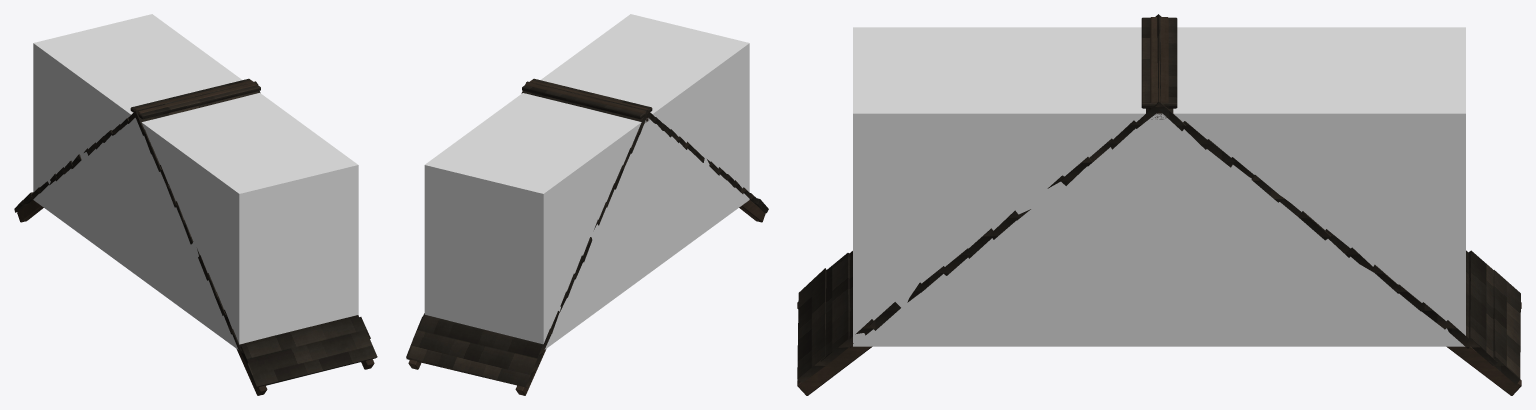
The model's file is ak_roof_shingle_span6_2m.glb.
3 views of the same model, side by side, from view 1: azimuth 30°, elevation 25°; view 2: azimuth 150°, elevation 25°; view 3: azimuth 270°, elevation 25° (orthographic). The views are drawn at different scales.
Visible parts, largest first — view 1: col_roof, roof; view 2: col_roof, roof; view 3: col_roof, roof.
Part boxes in pixels (x1=…): col_roof: x1=33, y1=14, x2=358, y2=349; roof: x1=14, y1=78, x2=377, y2=395; col_roof: x1=424, y1=14, x2=749, y2=349; roof: x1=406, y1=78, x2=768, y2=395; col_roof: x1=853, y1=27, x2=1465, y2=346; roof: x1=797, y1=14, x2=1521, y2=395.
Bounding box in the file's own units: 2.06 × 3.2 × 7.09.
Materials: 2 (2 with a texture image).
